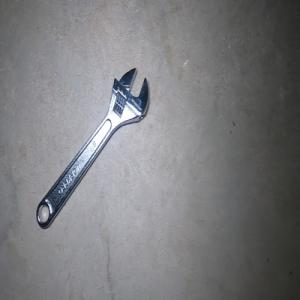Wrench: (36, 67, 149, 228)
